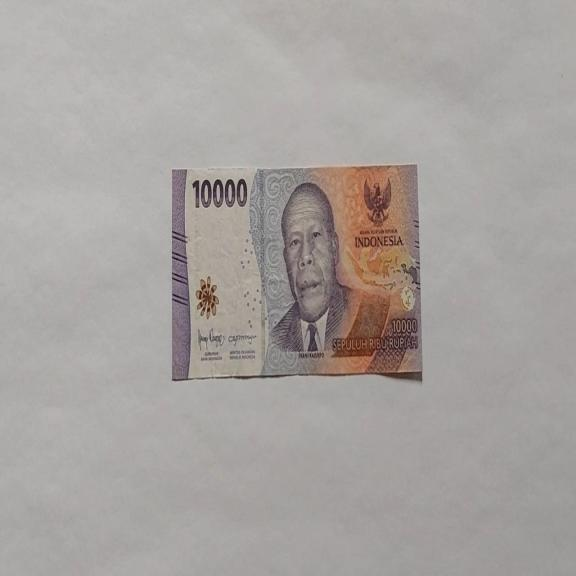Kertas: (171, 162, 423, 382), (191, 175, 248, 210)
